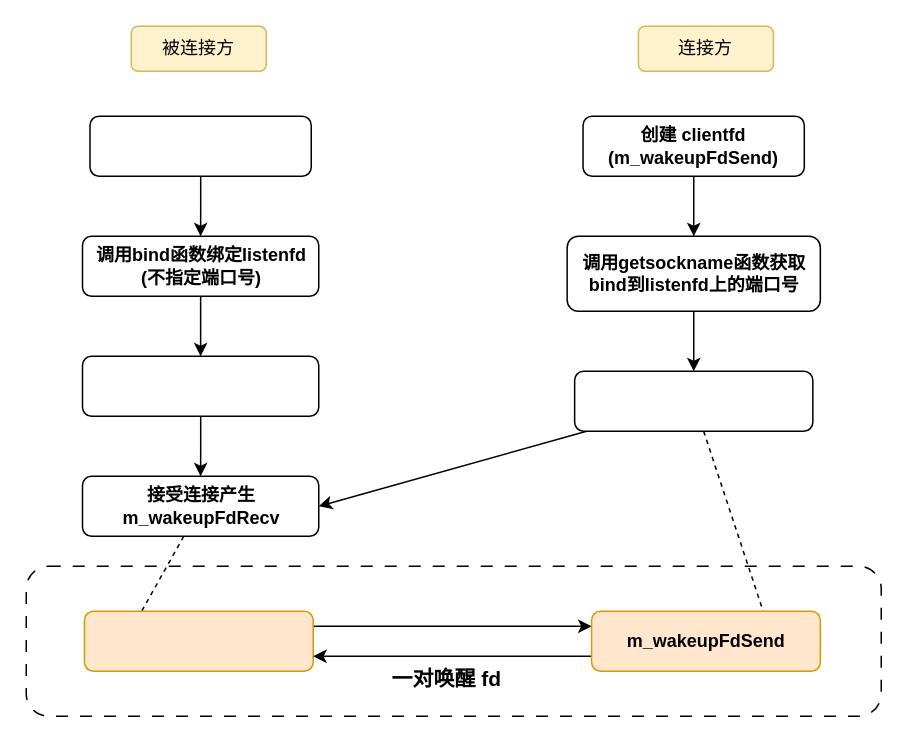
The diagram is 908 pixels wide and 743 high, and some of its shapes have lost their labels. The box of each missing label's shape, as (x1, y1, x2, y2) in pixels:
connect 到监听 IP 地址和端口号: (573, 370, 813, 431)
m_wakeupFdRecv: (83, 610, 313, 671)
创建 listenfd (m_wakeupFdListen): (88, 115, 311, 176)
调用listen函数启动监听操作: (81, 355, 319, 416)
